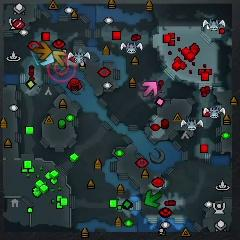x1: (142, 81, 157, 97)
x2: (52, 50, 65, 67)
x3: (39, 53, 55, 67)
x4: (144, 191, 162, 207)
x5: (34, 42, 52, 60)
